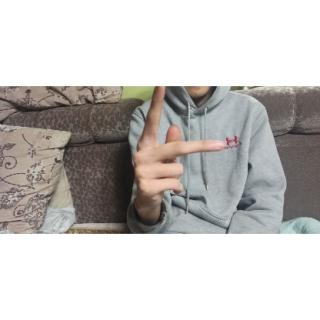DHAA: (123, 84, 243, 229)
